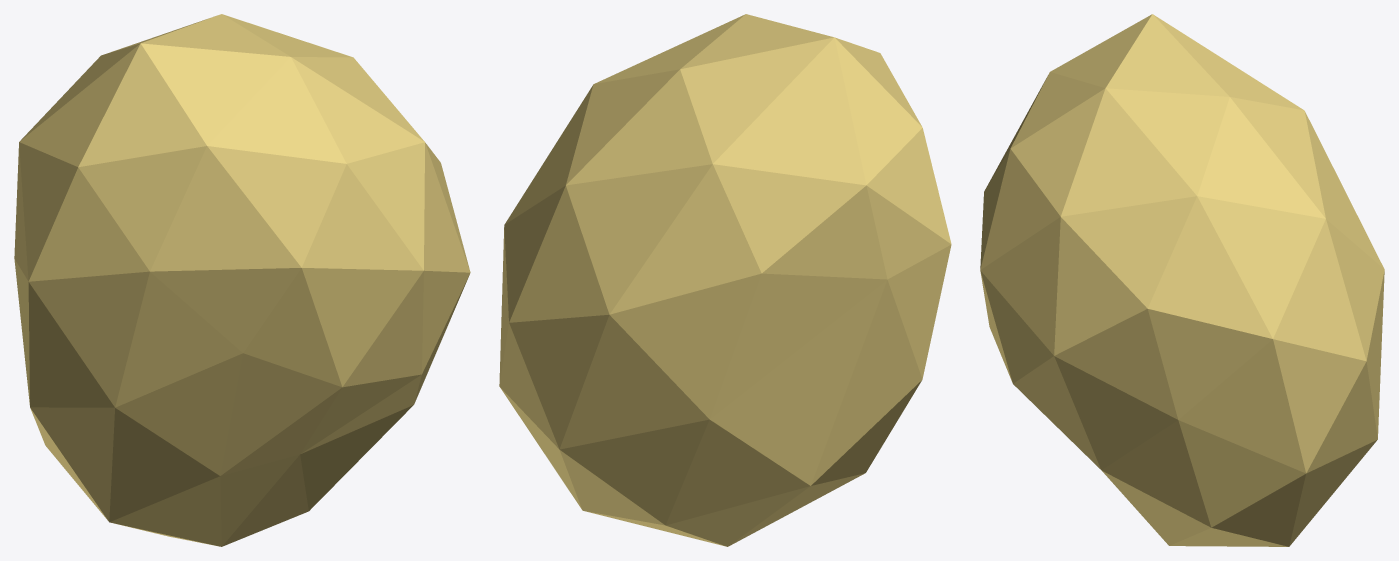
Rendered from Moonlight_Stone.fbx.
3 renders of one model, left to right at view 1: azimuth 30°, elevation 25°; view 2: azimuth 150°, elevation 25°; view 3: azimuth 270°, elevation 25°, orthographic. The views are drawn at different scales.
Visible parts, largest first — view 1: Moonlight Stone; view 2: Moonlight Stone; view 3: Moonlight Stone.
Boxes of the visible parts, <box> form: Moonlight Stone: <box>14,14,470,546</box>; Moonlight Stone: <box>499,14,951,546</box>; Moonlight Stone: <box>980,14,1384,546</box>.
Bounding box in the file's own units: 7.56 × 9.4 × 7.21.
